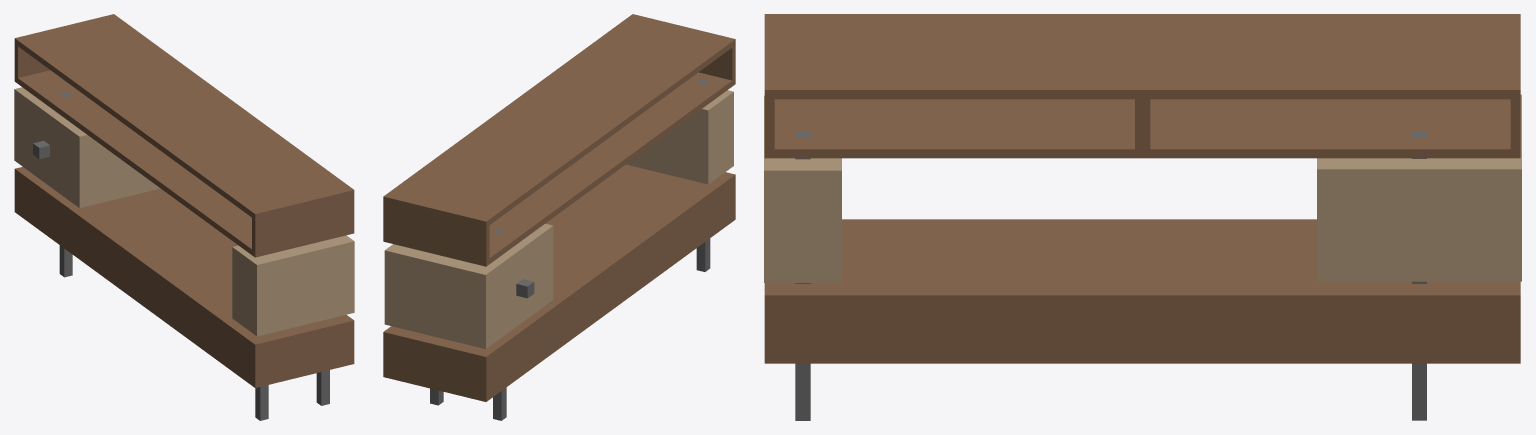
3 views of the same model, side by side, from view 1: azimuth 30°, elevation 25°; view 2: azimuth 150°, elevation 25°; view 3: azimuth 270°, elevation 25° (orthographic). The views are drawn at different scales.
Parts seen in each view (by area): view 1: underside_board, lower_shelf, narrow_support, broad_support, support_leg.001, support_leg, shelf_leg.001; view 2: underside_board, lower_shelf, broad_support, narrow_support, support_leg.001, shelf_leg.001; view 3: underside_board, lower_shelf, broad_support, narrow_support, support_leg, shelf_leg.
Boxes of the visible parts, bbox=[...] form: underside_board: bbox=[14, 14, 354, 257]; lower_shelf: bbox=[14, 167, 354, 387]; narrow_support: bbox=[232, 235, 354, 336]; broad_support: bbox=[14, 87, 160, 208]; support_leg.001: bbox=[255, 385, 268, 420]; support_leg: bbox=[316, 370, 329, 405]; shelf_leg.001: bbox=[59, 92, 72, 277]; underside_board: bbox=[383, 14, 735, 266]; lower_shelf: bbox=[383, 164, 735, 401]; broad_support: bbox=[384, 223, 553, 348]; narrow_support: bbox=[626, 90, 733, 184]; support_leg.001: bbox=[696, 79, 710, 271]; shelf_leg.001: bbox=[493, 228, 506, 420]; underside_board: bbox=[764, 14, 1520, 158]; lower_shelf: bbox=[764, 219, 1520, 363]; broad_support: bbox=[1317, 94, 1521, 281]; narrow_support: bbox=[764, 95, 841, 282]; support_leg: bbox=[795, 131, 810, 420]; shelf_leg: bbox=[1412, 131, 1426, 420].
Size of the model in its own units: 0.395 by 0.746 by 1.5.
